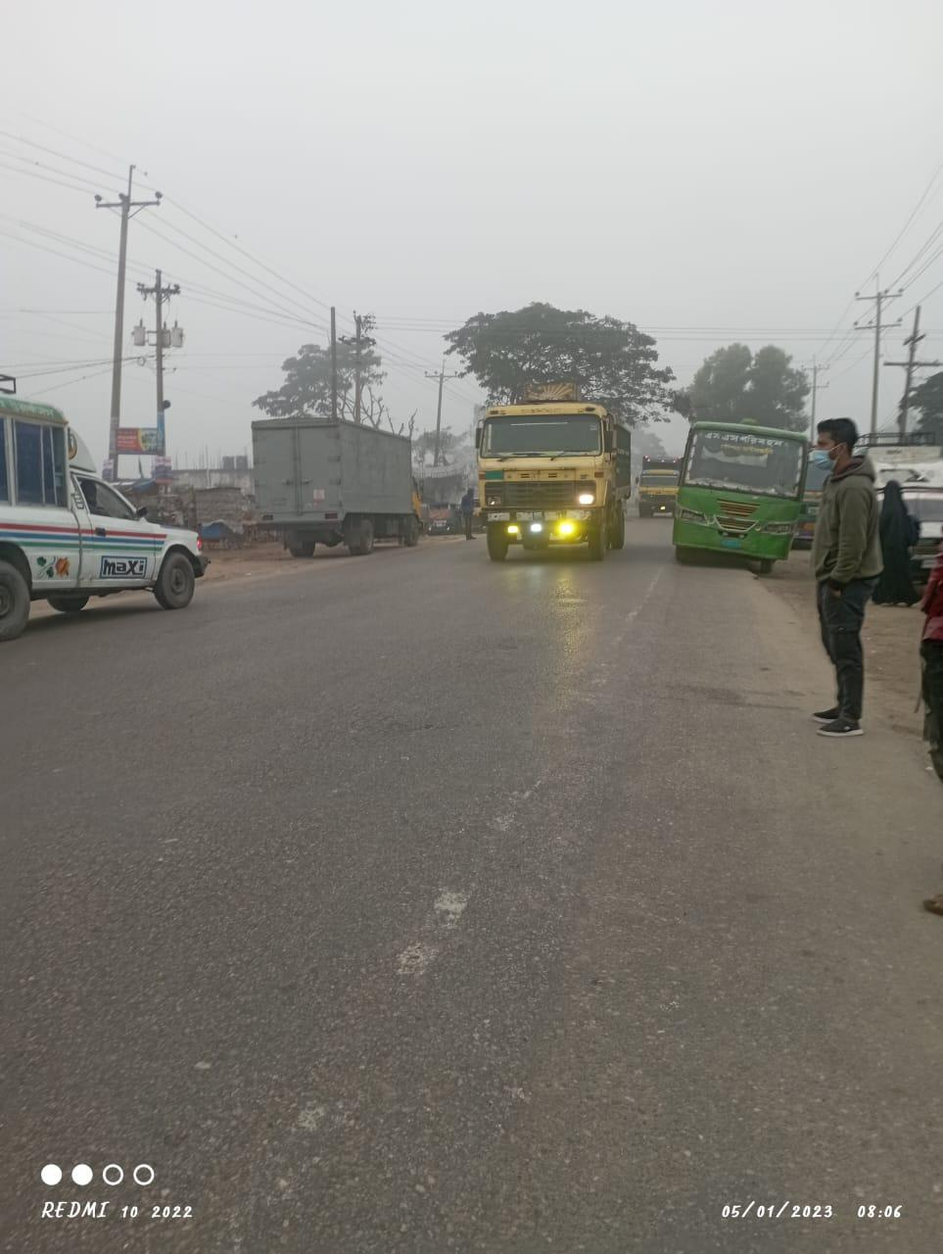Bus: (666, 407, 813, 587)
Car: (5, 383, 215, 624)
Truck: (463, 379, 636, 583), (244, 407, 431, 564), (634, 449, 685, 519)
